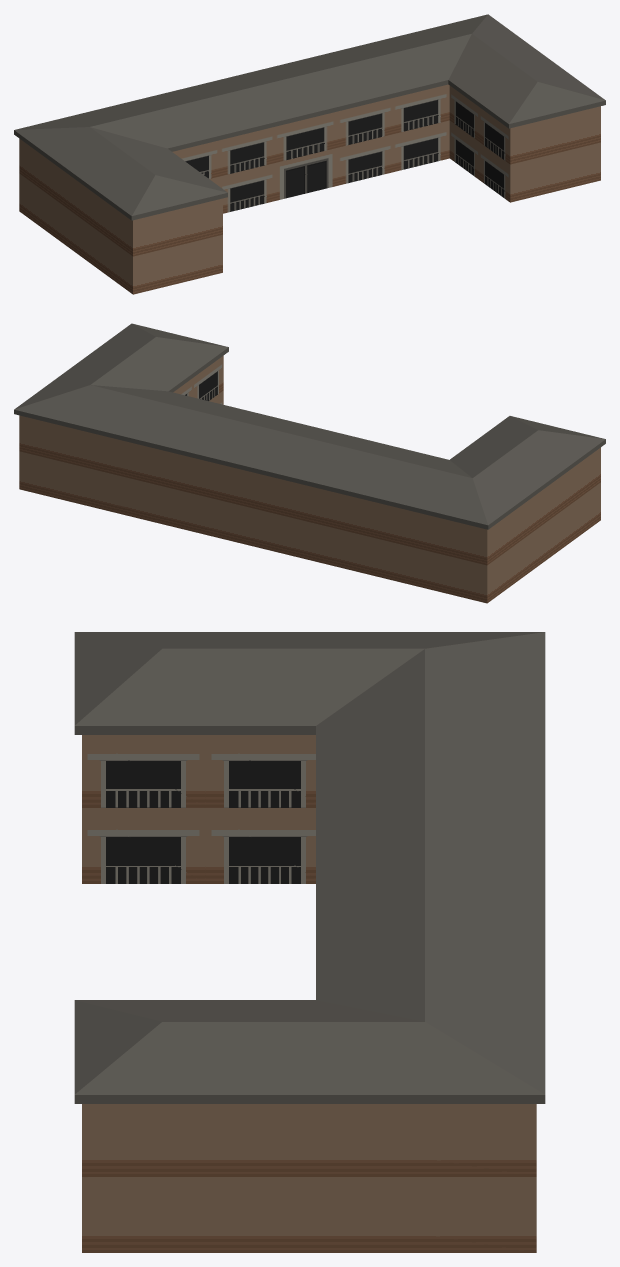
File: qcu_bldg5.glb
3 renders of one model, top to bottom at view 1: azimuth 30°, elevation 25°; view 2: azimuth 150°, elevation 25°; view 3: azimuth 270°, elevation 25°, orthographic. The views are drawn at different scales.
Visible parts, largest first — view 1: Yellow Bldg; view 2: Yellow Bldg; view 3: Yellow Bldg.
Boxes of the visible parts, bbox=[...] form: Yellow Bldg: bbox=[14, 14, 605, 294]; Yellow Bldg: bbox=[14, 323, 605, 603]; Yellow Bldg: bbox=[74, 632, 545, 1252].
Size of the model in its own units: 4.99 by 0.95 by 2.14.
1 material, 1 textured.
